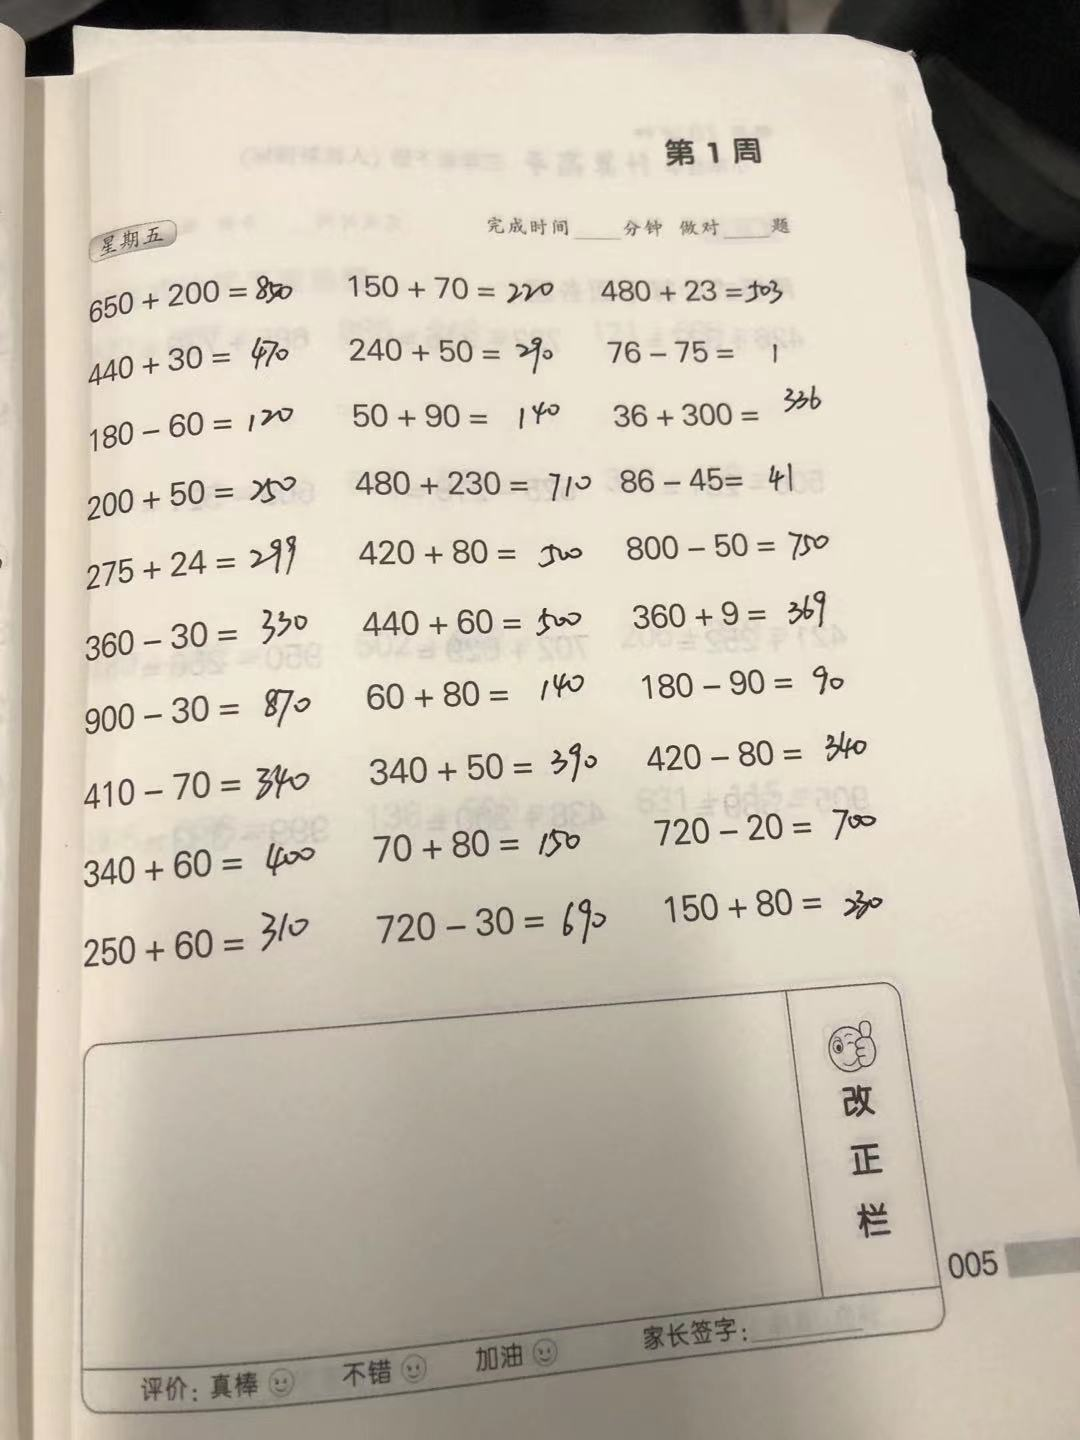equation: (366, 886, 618, 962), (74, 910, 341, 979), (358, 518, 599, 584), (334, 245, 564, 313), (644, 799, 898, 858), (632, 719, 875, 779), (76, 539, 351, 591), (649, 881, 900, 938), (624, 582, 908, 632), (76, 612, 338, 666), (66, 840, 338, 891), (627, 654, 886, 705), (623, 513, 850, 568), (363, 738, 619, 787), (68, 770, 345, 814), (341, 458, 604, 505), (66, 334, 314, 383), (60, 273, 311, 320), (353, 598, 594, 645), (592, 322, 788, 380), (79, 691, 323, 737), (66, 409, 313, 452), (609, 387, 850, 431), (596, 268, 803, 319), (357, 677, 602, 720), (345, 325, 571, 372), (339, 392, 576, 437), (65, 474, 328, 514), (376, 816, 592, 864), (615, 451, 826, 500)
